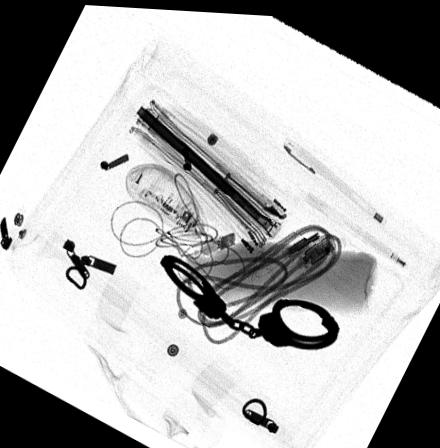HandCuffs: (159, 253, 339, 346)
